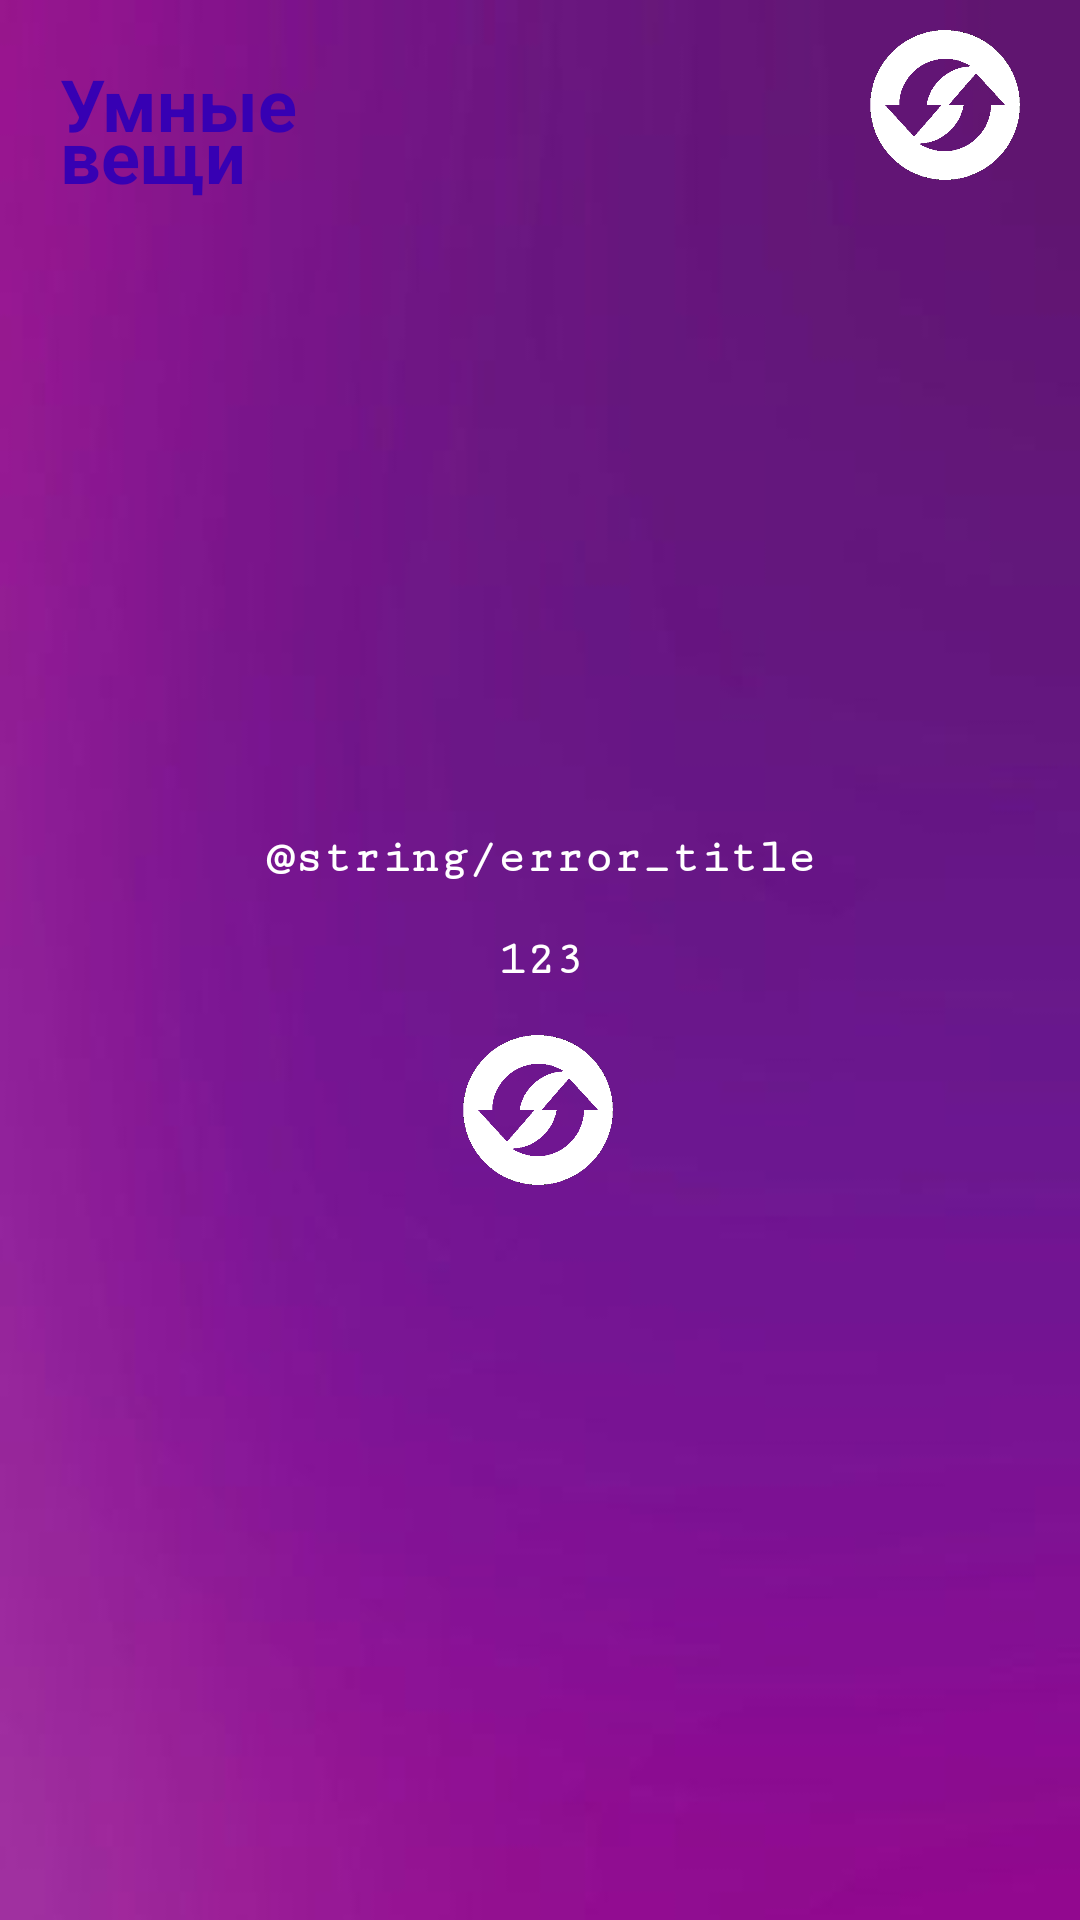

Screen size 1080w x 1920h. Icon name, then its center in pixels as (x=x, y=y):
update: (x=945, y=105), (x=538, y=1110)
